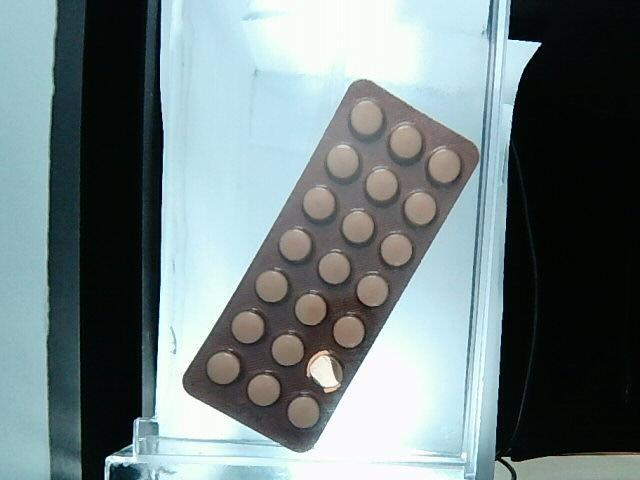Light Front: (183, 80, 479, 450)
No Pill Front: (306, 350, 342, 392)
Pill Front: (349, 98, 385, 141), (389, 123, 422, 163), (365, 166, 398, 204), (326, 144, 359, 180), (303, 185, 336, 221), (428, 148, 461, 183), (341, 210, 374, 244), (318, 250, 351, 284), (206, 351, 239, 384), (404, 191, 436, 225), (279, 229, 311, 262), (255, 270, 288, 302), (231, 310, 263, 343), (380, 234, 412, 267), (356, 274, 388, 307), (333, 315, 365, 348), (248, 374, 281, 405), (295, 294, 327, 325), (273, 335, 304, 366), (288, 396, 319, 427)
